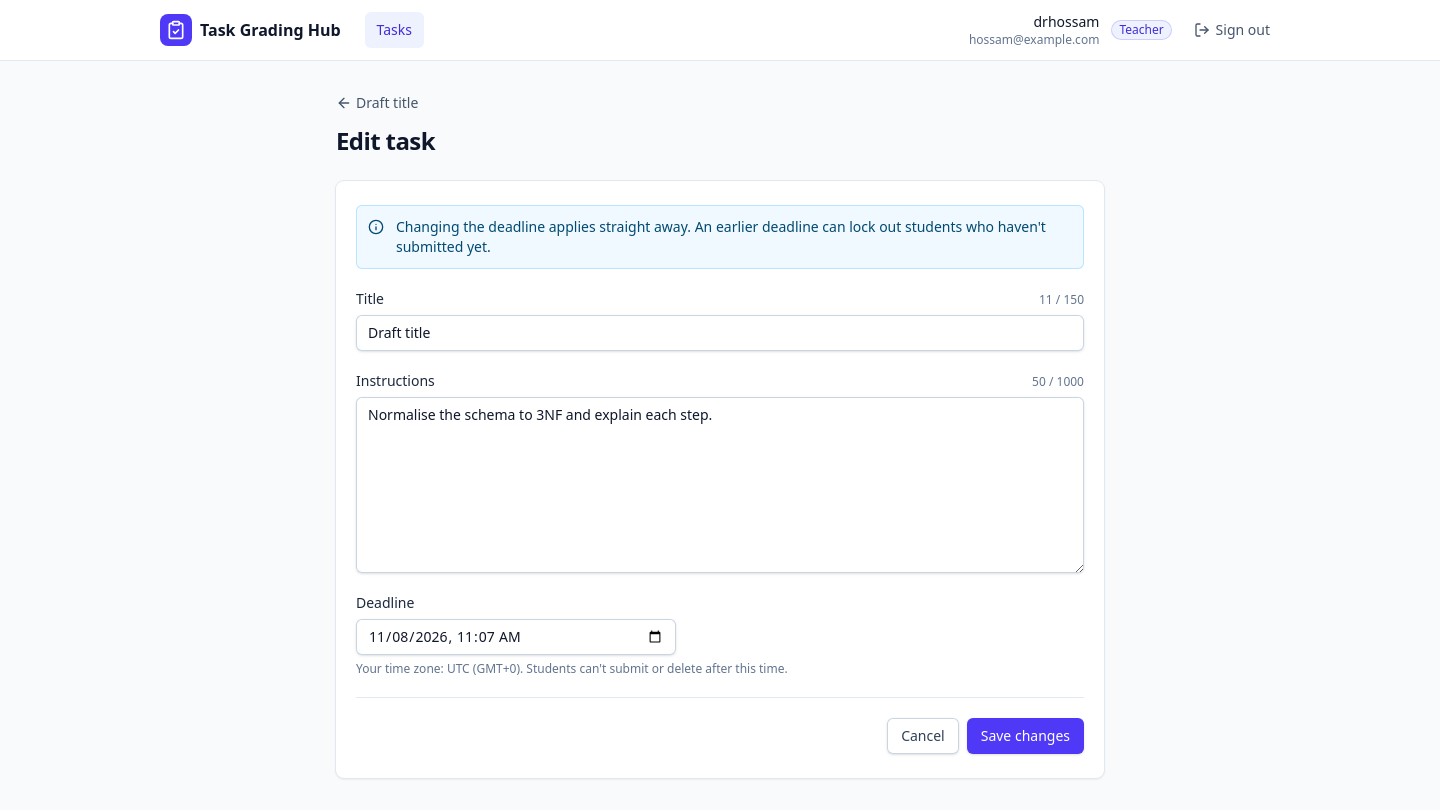
Test: creating and editing tasks › updates a task
Replace the text in the field labelled "Title" with "Better title": (720, 333) [356, 315, 1084, 351]
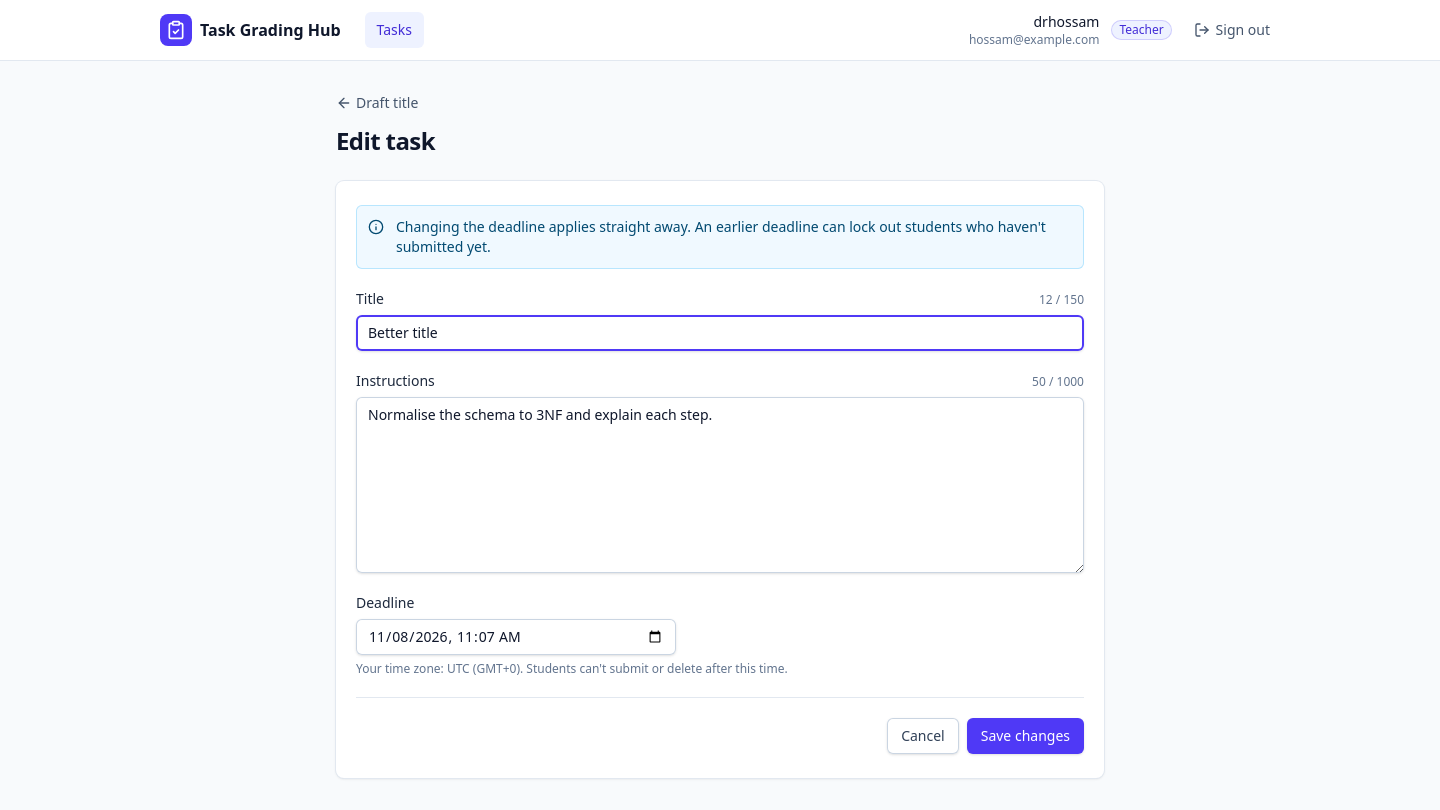
Click the button "Save changes": (1025, 736) [967, 718, 1084, 754]
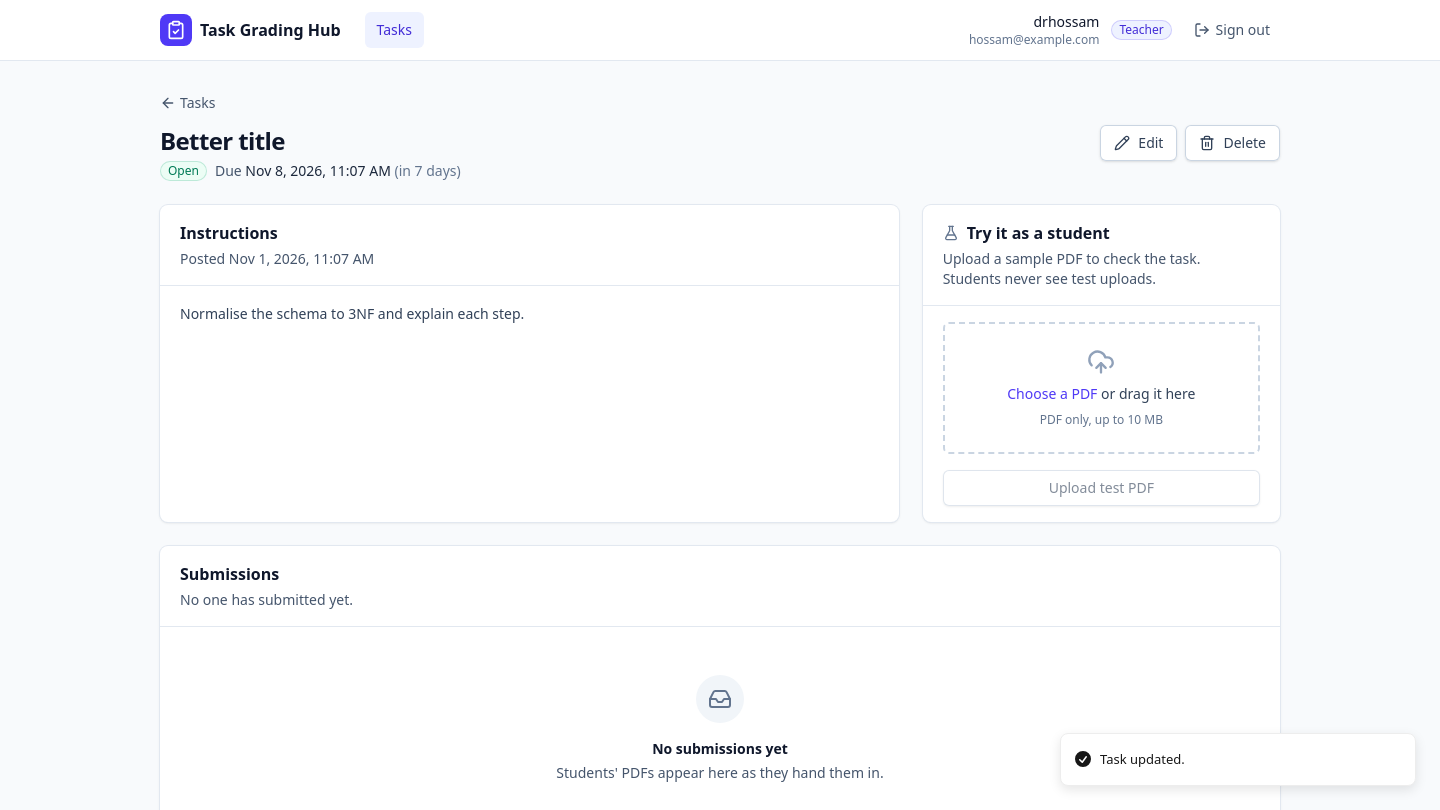
Check: the heading "Better title" is shown, box [160, 124, 285, 157]
